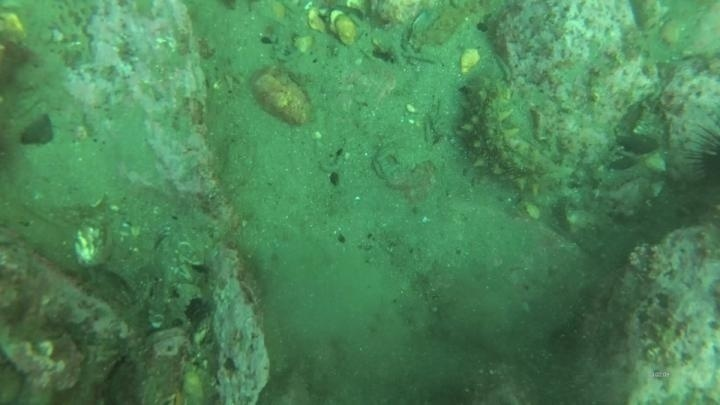echinus: (687, 122, 720, 188)
holothurian: (454, 73, 570, 200)
